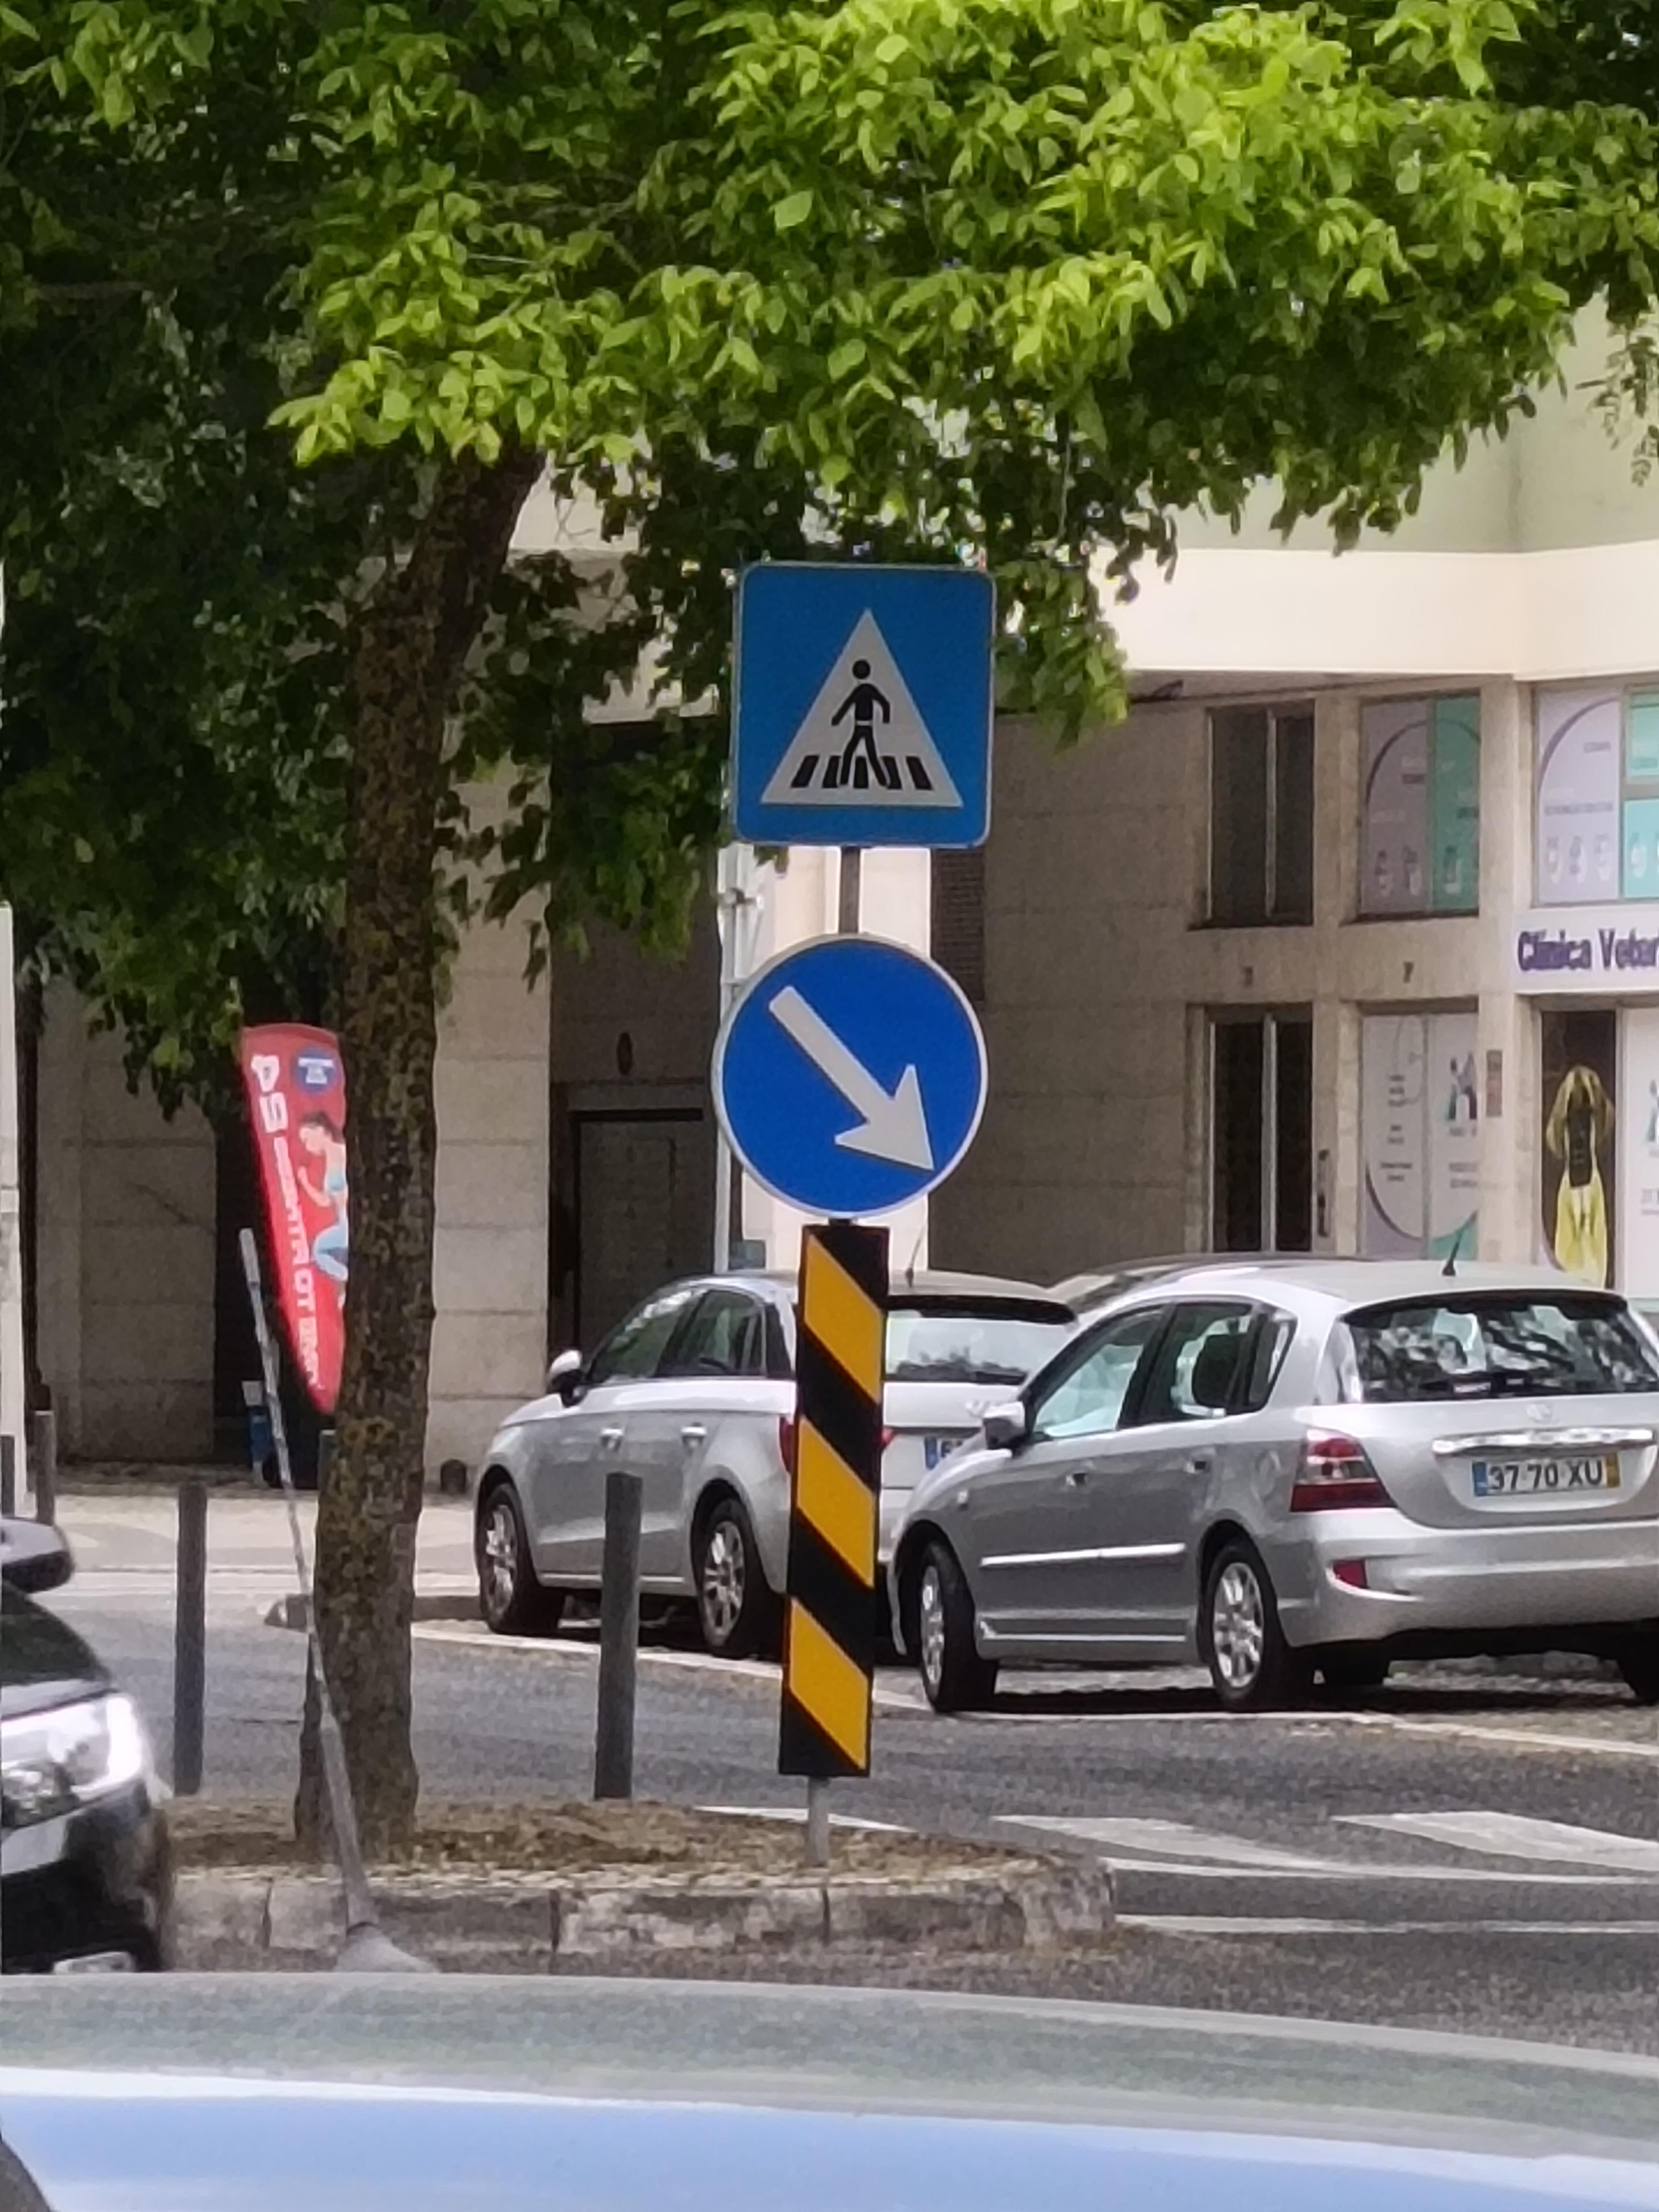baliza de posicao: (789, 1230, 880, 1780)
passagem para peoes: (732, 545, 1004, 857)
sentido obrigatorio: (723, 948, 990, 1205)
